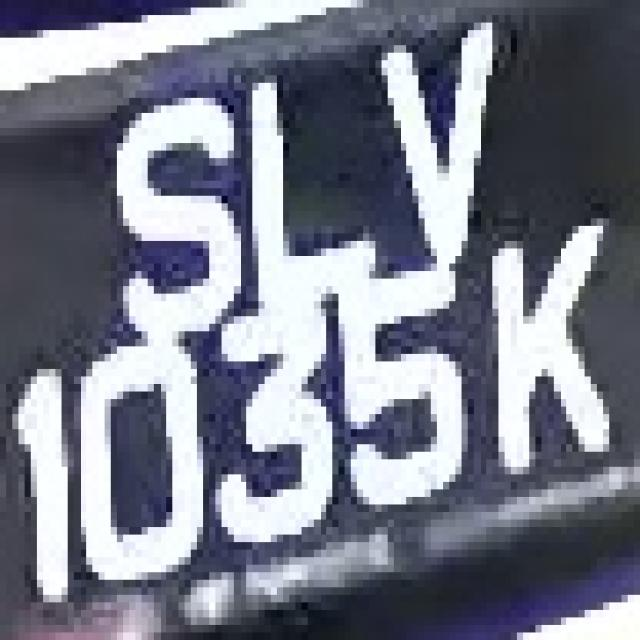0: (68, 316, 215, 602)
1: (25, 324, 86, 632)
3: (197, 271, 351, 572)
5: (326, 248, 480, 520)
K: (474, 233, 609, 497)
L: (228, 53, 394, 301)
S: (92, 76, 240, 347)
V: (351, 8, 517, 286)
